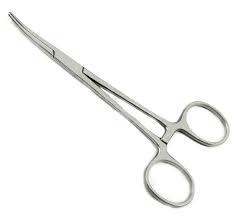Artery Forceps: (5, 9, 229, 206)
